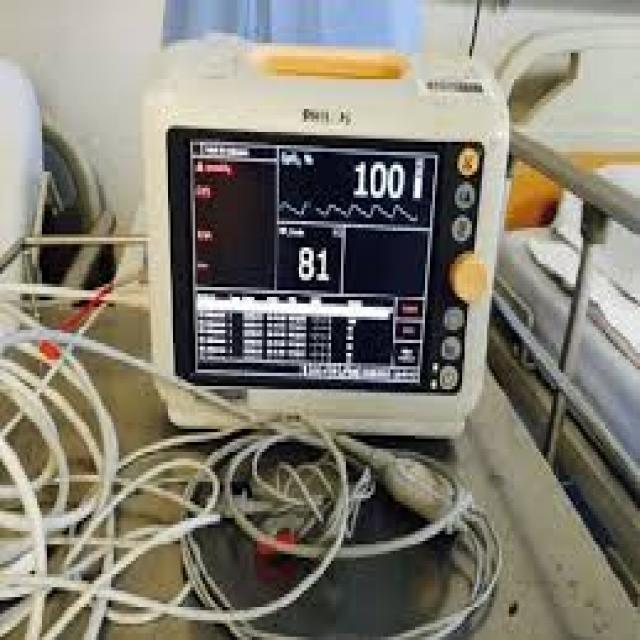cardiac_monitor: (159, 74, 493, 445)
